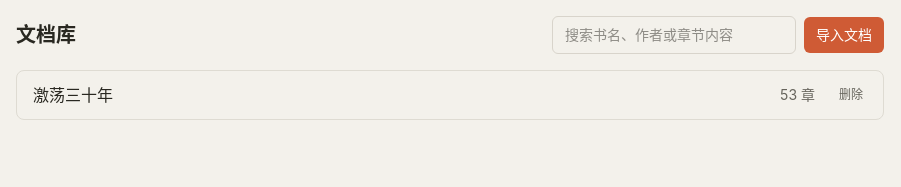
Scenario: DocumentsPage › shows the server message when the delete fails
Check: the text "激荡三十年" is shown, box [33,85,113,105]
What coordinates should you click on to do the following:
click the button with aria-label "删除 激荡三十年"
I would click on:
 (851, 95)
Its box is [831,83,871,107].
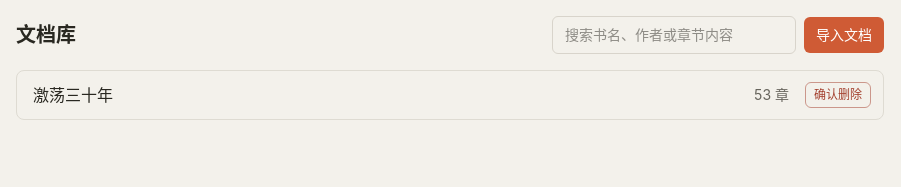
What coordinates should you click on to do the following:
click the button with aria-label "确认删除 激荡三十年"
I would click on:
 (838, 95)
Its box is [805,82,871,108].
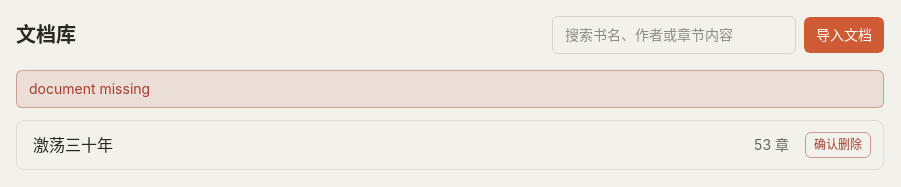
Check: the text "document missing" is shown, box [16,70,884,108]
